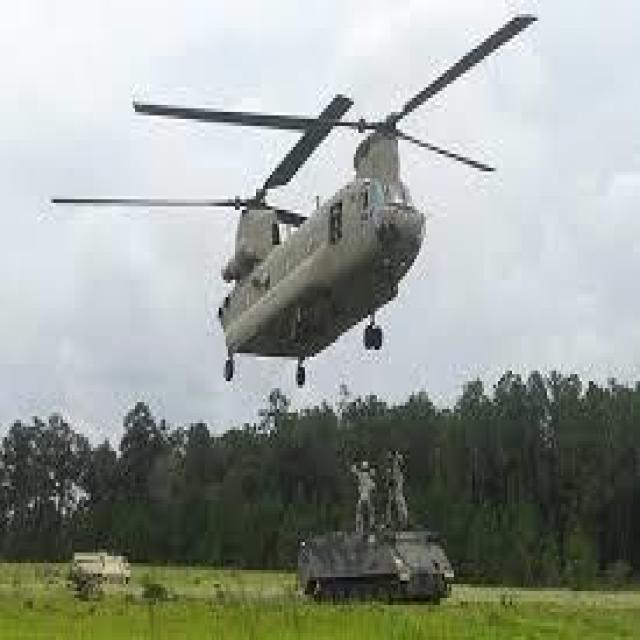Tanks: (293, 512, 454, 607)
